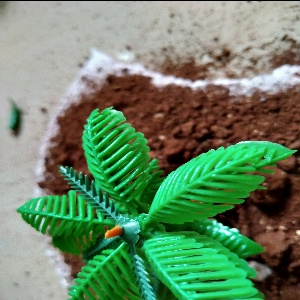plant: (19, 113, 247, 300)
